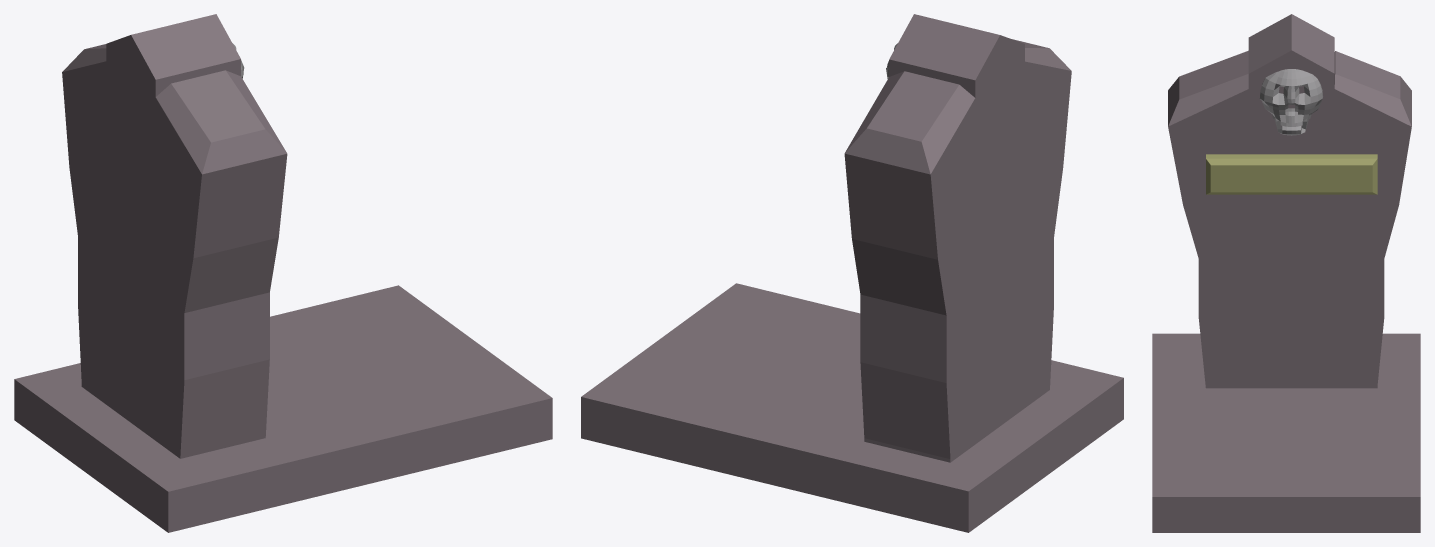
The model's file is Gravestone.glb.
3 renders of one model, left to right at view 1: azimuth 30°, elevation 25°; view 2: azimuth 150°, elevation 25°; view 3: azimuth 270°, elevation 25°, orthographic. The views are drawn at different scales.
Parts seen in each view (by area): view 1: Cube; view 2: Cube; view 3: Cube, Cube.001, Sphere.
Part boxes in pixels (x1,y1,x2,y2): Cube: [14, 14, 552, 532]; Cube: [581, 14, 1123, 532]; Cube: [1152, 14, 1420, 532]; Cube.001: [1206, 154, 1377, 194]; Sphere: [1259, 69, 1323, 135].
Bounding box in the file's own units: 9 × 9.6 × 6.24.
